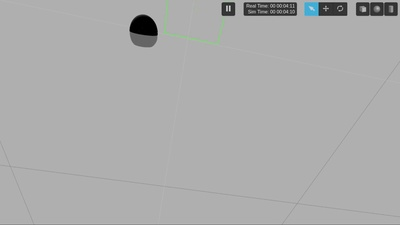mira_robot: (130, 13, 158, 47)
